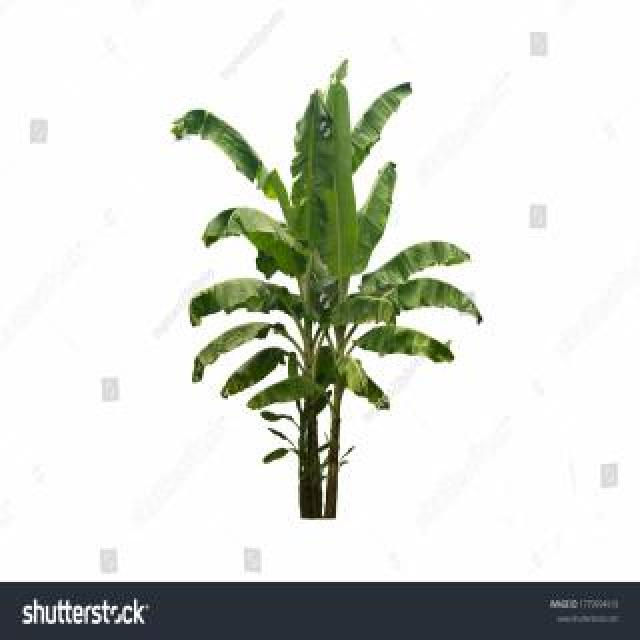Pisang: (153, 59, 490, 531)
